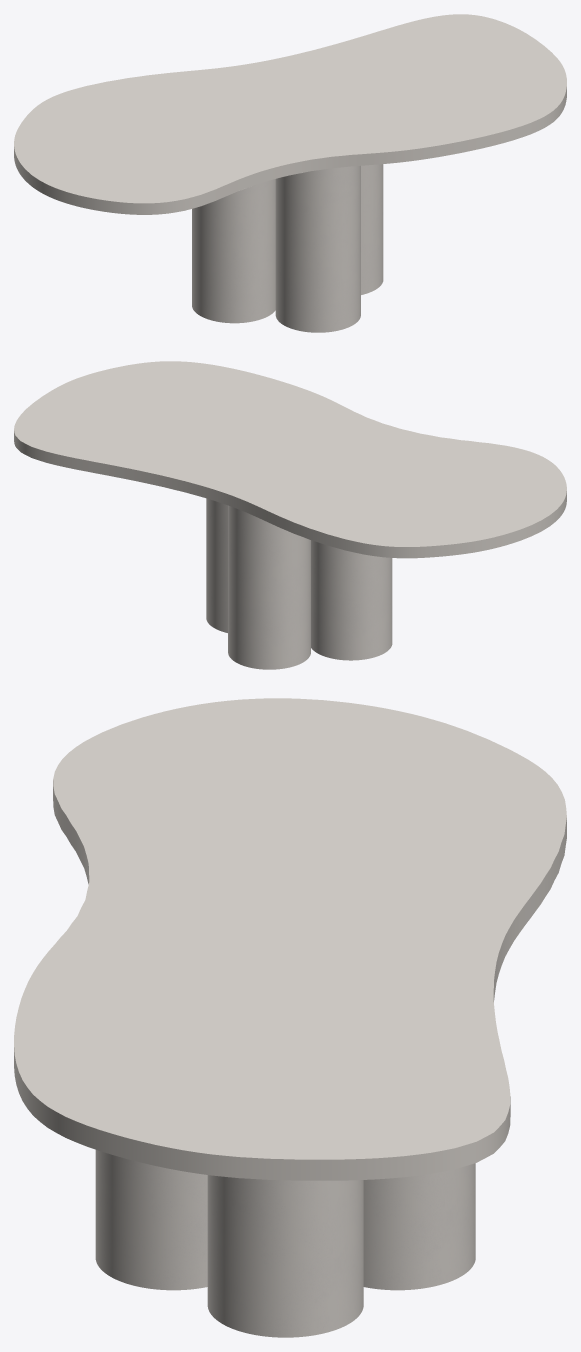
Rendered from pearlwhite_wave_standard_secondtable.glb.
3 renders of one model, top to bottom at view 1: azimuth 30°, elevation 25°; view 2: azimuth 150°, elevation 25°; view 3: azimuth 270°, elevation 25°, orthographic. The views are drawn at different scales.
Parts seen in each view (by area): view 1: standard_wave, secondtable; view 2: standard_wave, secondtable; view 3: standard_wave, secondtable.
Boxes of the visible parts, x1,y1,x2,y2 form: standard_wave: (14,14,566,214); secondtable: (192,164,383,332); standard_wave: (14,361,566,558); secondtable: (206,498,392,669); standard_wave: (14,698,566,1180); secondtable: (95,1150,475,1337).
Size of the model in its own units: 7.5 by 2.5 by 3.8.
1 material, 1 textured.
